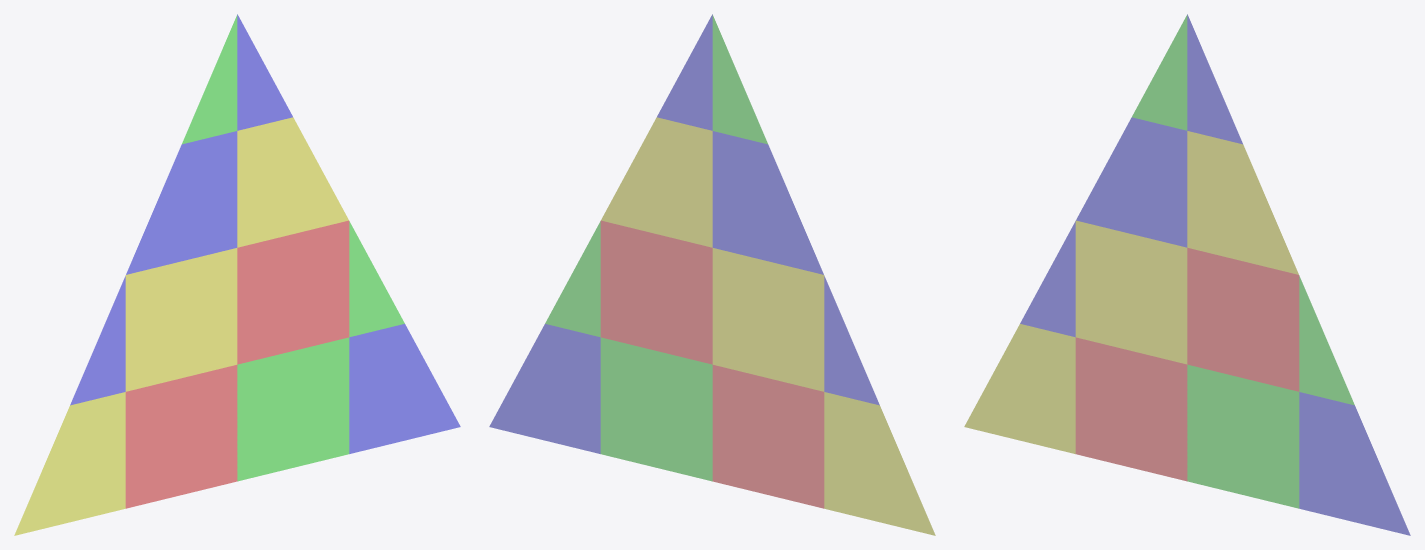
File: jpeg_texture.gltf
The picture shows the model from 3 angles, left to right: view 1: azimuth 30°, elevation 25°; view 2: azimuth 150°, elevation 25°; view 3: azimuth 330°, elevation 25°; orthographic projection.
Visible parts, largest first — view 1: JpegNode; view 2: JpegNode; view 3: JpegNode.
Part boxes in pixels (<box>): JpegNode: <box>14,14,460,535</box>; JpegNode: <box>489,14,935,535</box>; JpegNode: <box>964,14,1410,535</box>.
Bounding box in the file's own units: 1 × 1 × 0.
Materials: 1 (1 with a texture image).
